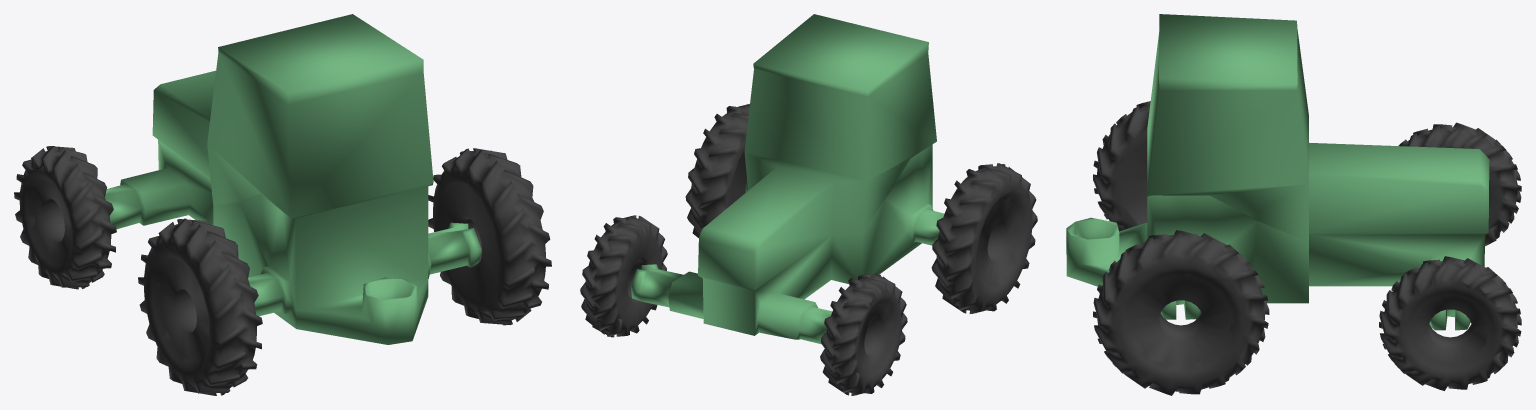
Rendered from tractor.glb.
The picture shows the model from 3 angles, left to right: view 1: azimuth 30°, elevation 25°; view 2: azimuth 150°, elevation 25°; view 3: azimuth 270°, elevation 25°; orthographic projection. The views are drawn at different scales.
Parts seen in each view (by area): view 1: tractor; view 2: tractor; view 3: tractor.
Boxes of the visible parts, left/top/right/bottom form: tractor: left=14, top=14, right=551, bottom=395; tractor: left=580, top=14, right=1037, bottom=395; tractor: left=1066, top=14, right=1521, bottom=395.
Size of the model in its own units: 2.95 by 2.43 by 3.6.
